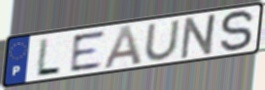A: (101, 23, 145, 71)
E: (69, 29, 106, 74)
L: (33, 36, 63, 77)
N: (178, 11, 221, 61)
S: (219, 9, 256, 55)
U: (142, 18, 182, 62)
